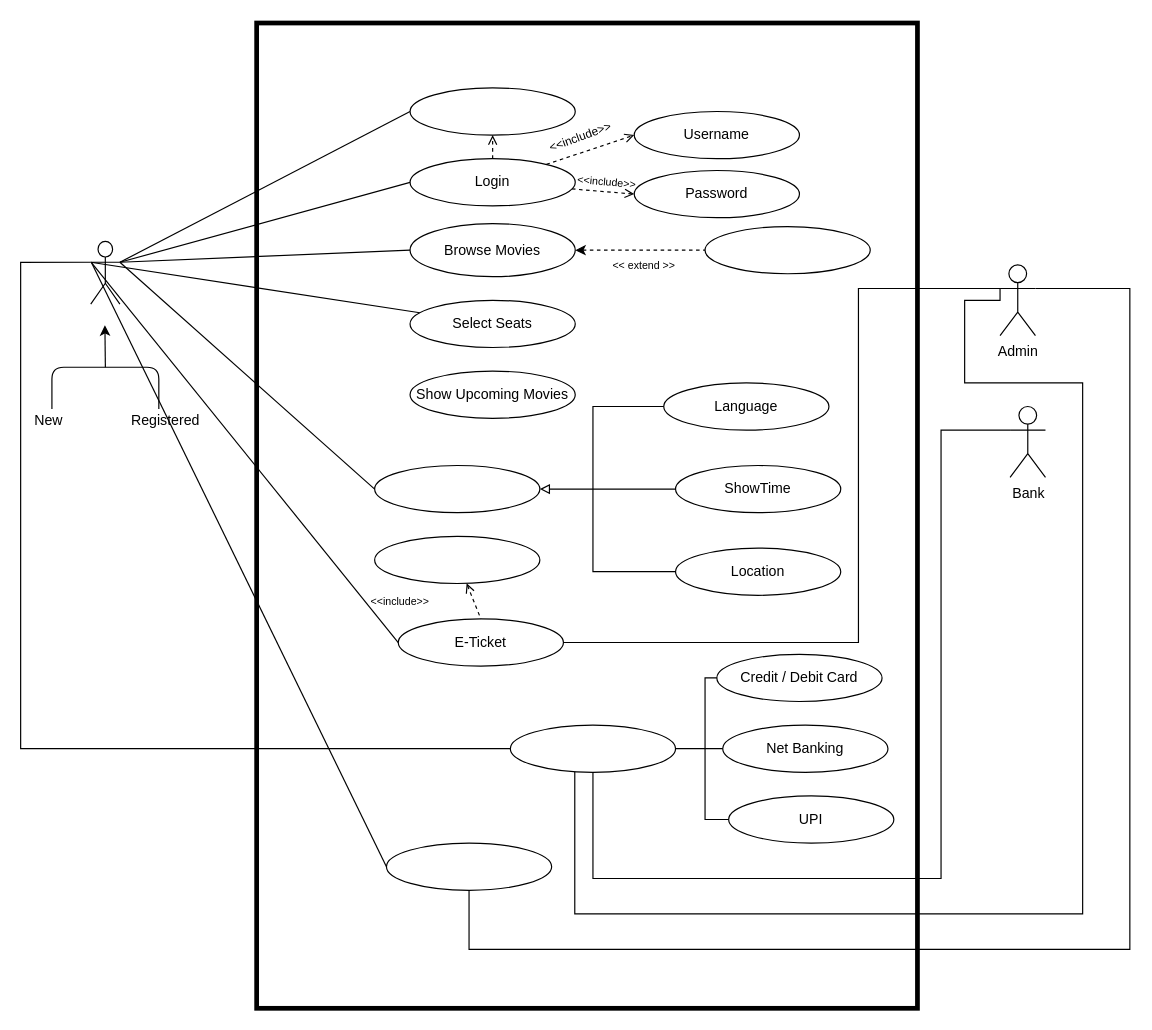
This 1152x1030 diagram has some shape labels left out. Each missing label, with the box of its shape:
Filter Movies: (373, 464, 540, 513)
LogOut: (385, 842, 552, 890)
Order Summary: (373, 535, 540, 584)
Payment: (509, 724, 676, 772)
Register: (409, 87, 575, 135)
Show Description of Movies: (704, 225, 870, 274)
User: (90, 240, 120, 304)
